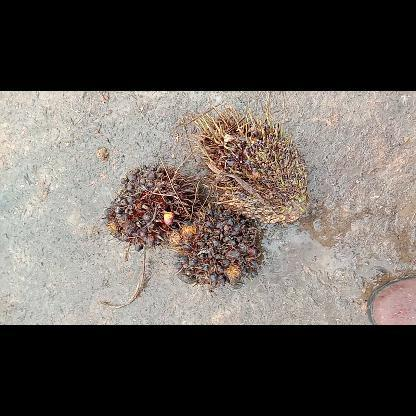TBS abnormal: (192, 102, 310, 224), (103, 164, 199, 250), (168, 202, 260, 288)
